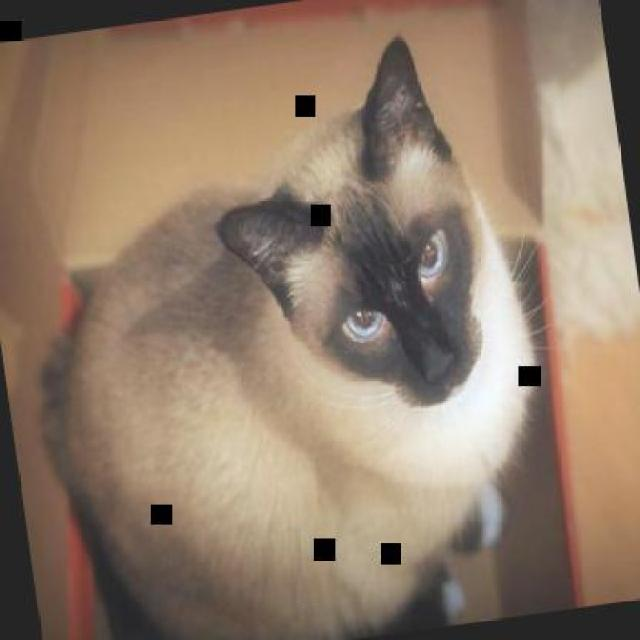cat: (0, 19, 568, 638)
